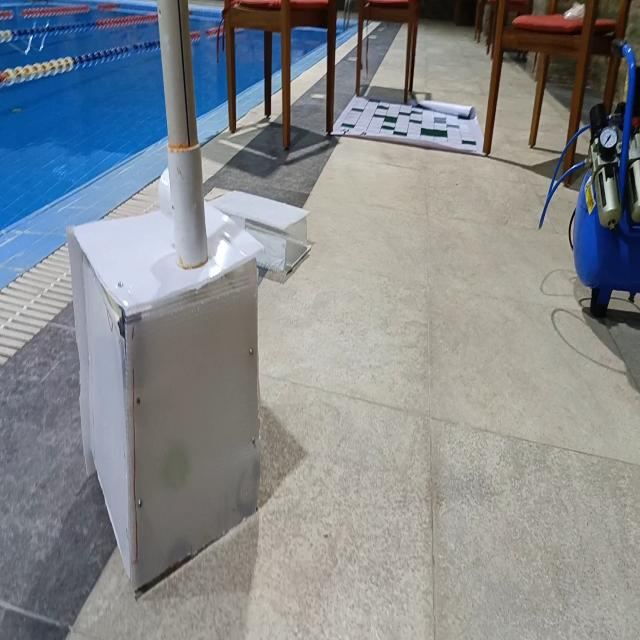Cube: (66, 199, 264, 593)
